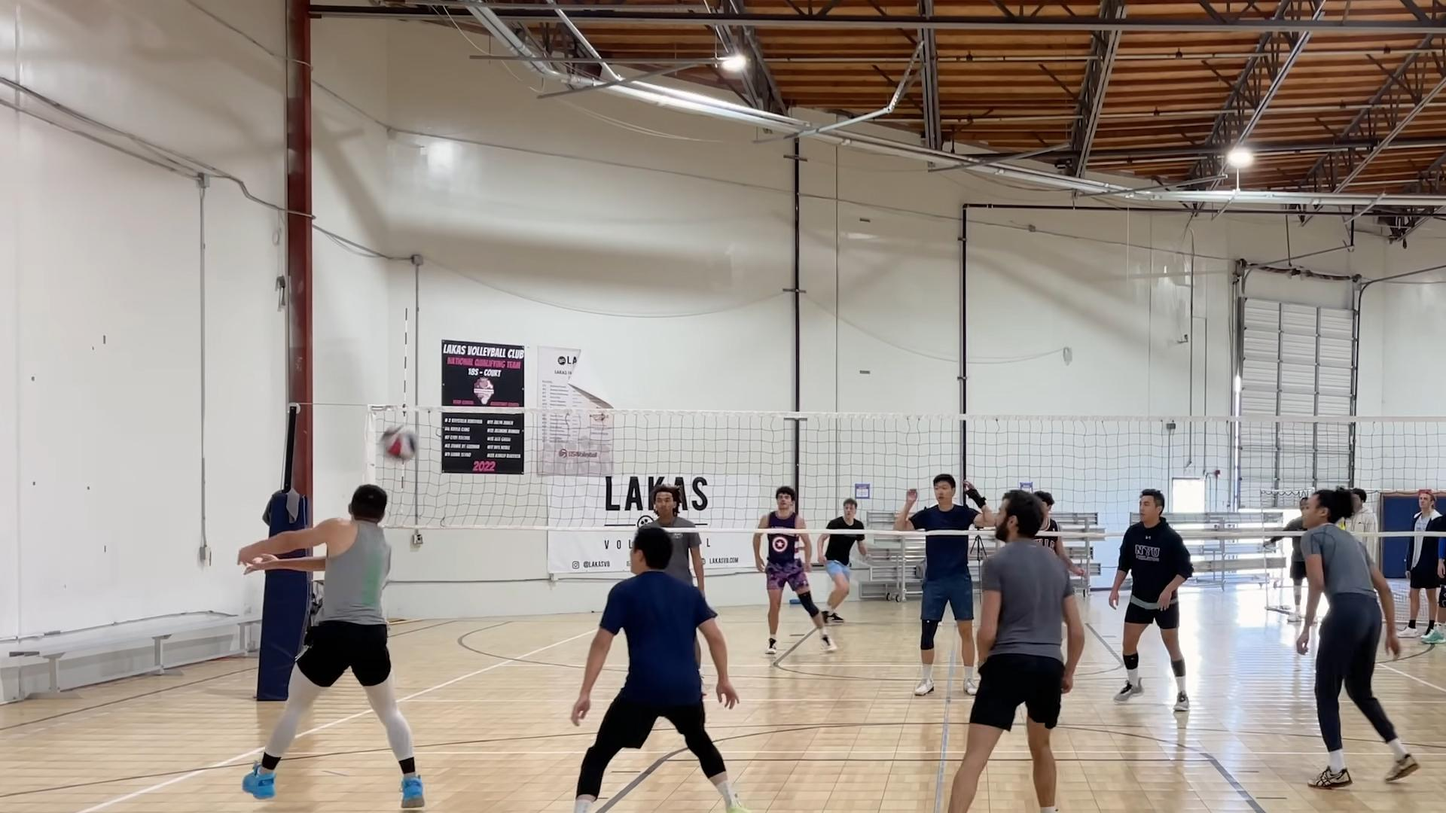ricezione: (233, 483, 426, 813)
